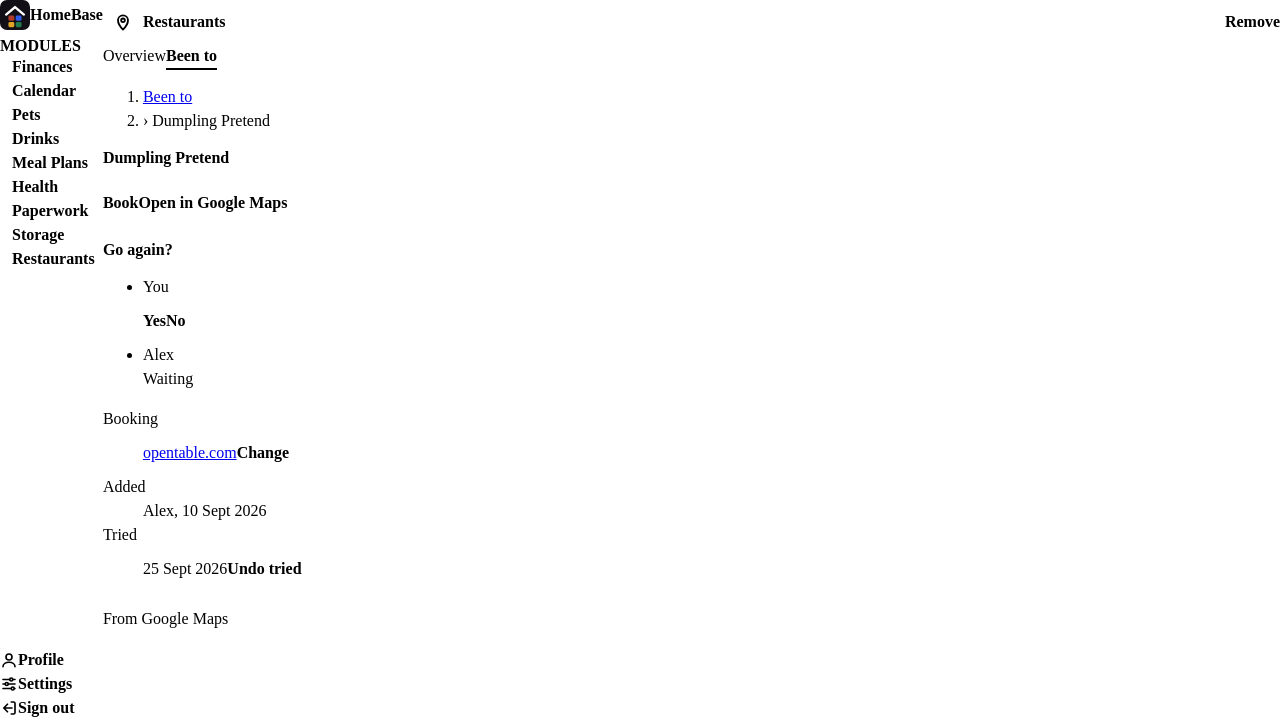
book a table (REQ-132) › changes a booking link starting from the current one
Click the button "Change".
click(263, 453)  # box [237, 431, 289, 475]
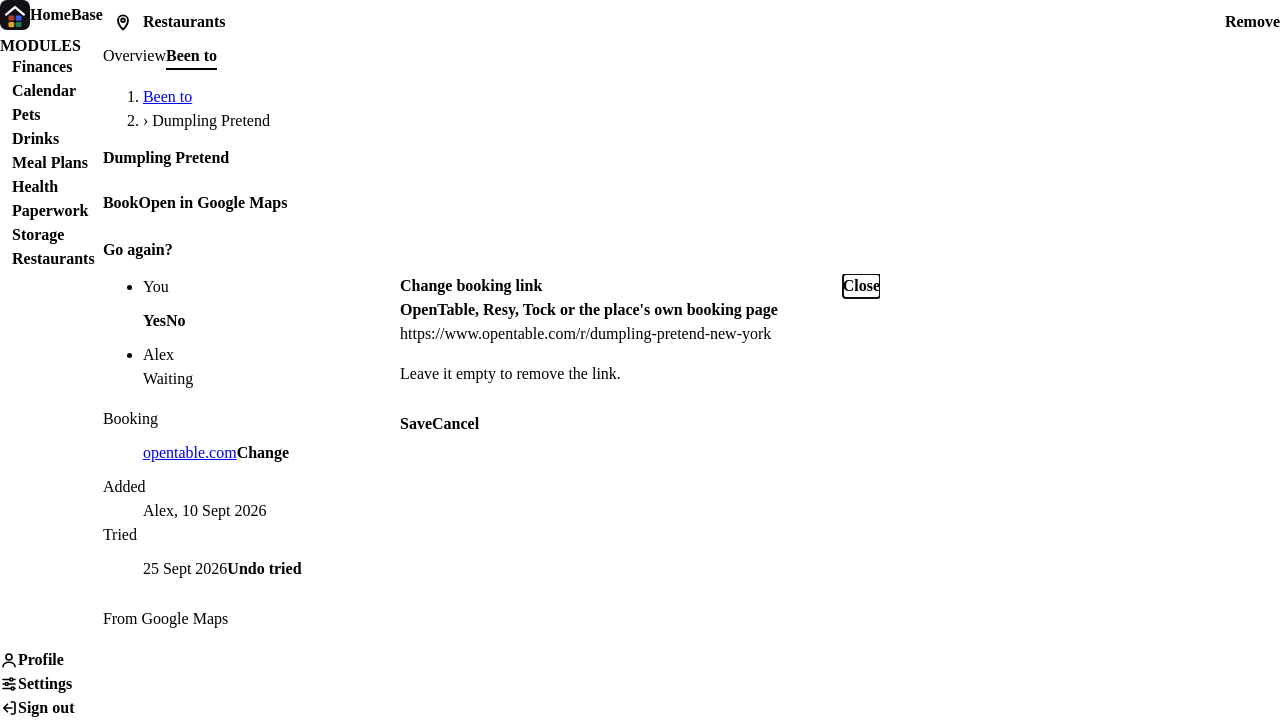
Check: the field labelled "OpenTable, Resy, Tock or the place's own booking page" holds "https://www.opentable.com/r/dumpling-pretend-new-york", box [400, 322, 880, 346]
